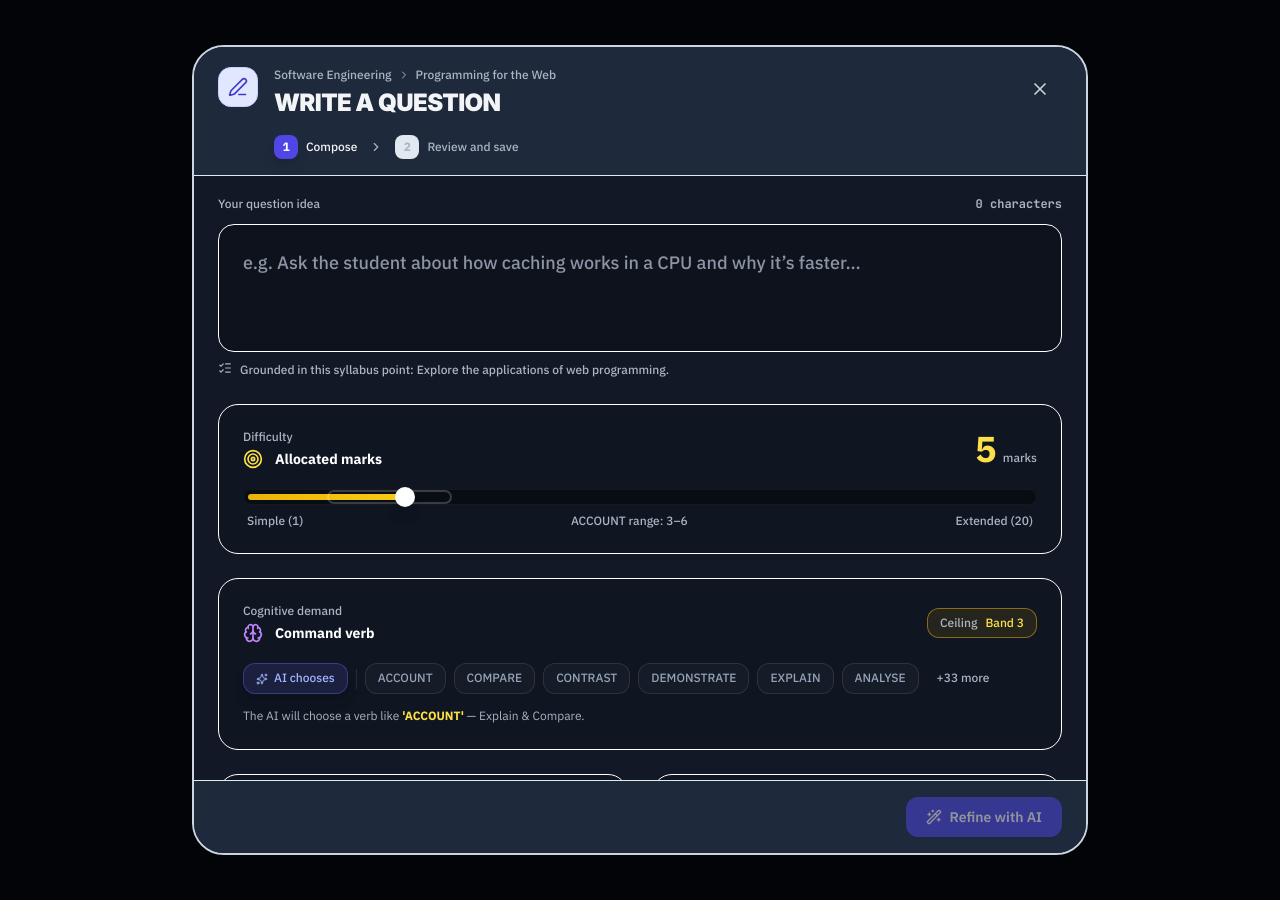
Test case: ManualPromptModal — composing › grounds the request in the syllabus dot point when one is selected
Replace the text in the text box labelled "Your question idea" with "ask about CPU caching" at [640, 288], box [218,224,1062,352]
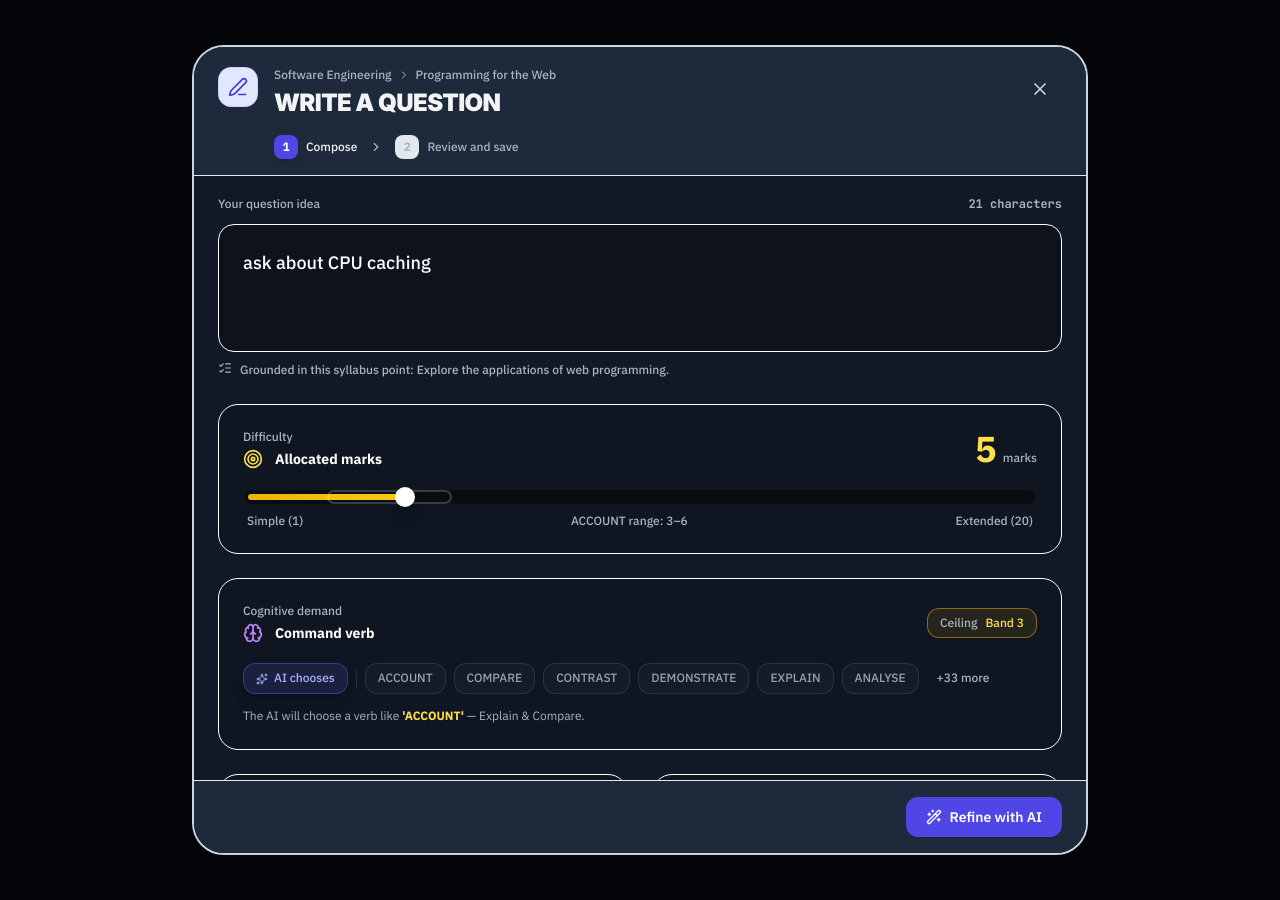
Click the button "Refine with AI" at [984, 817], box [906,797,1062,837]
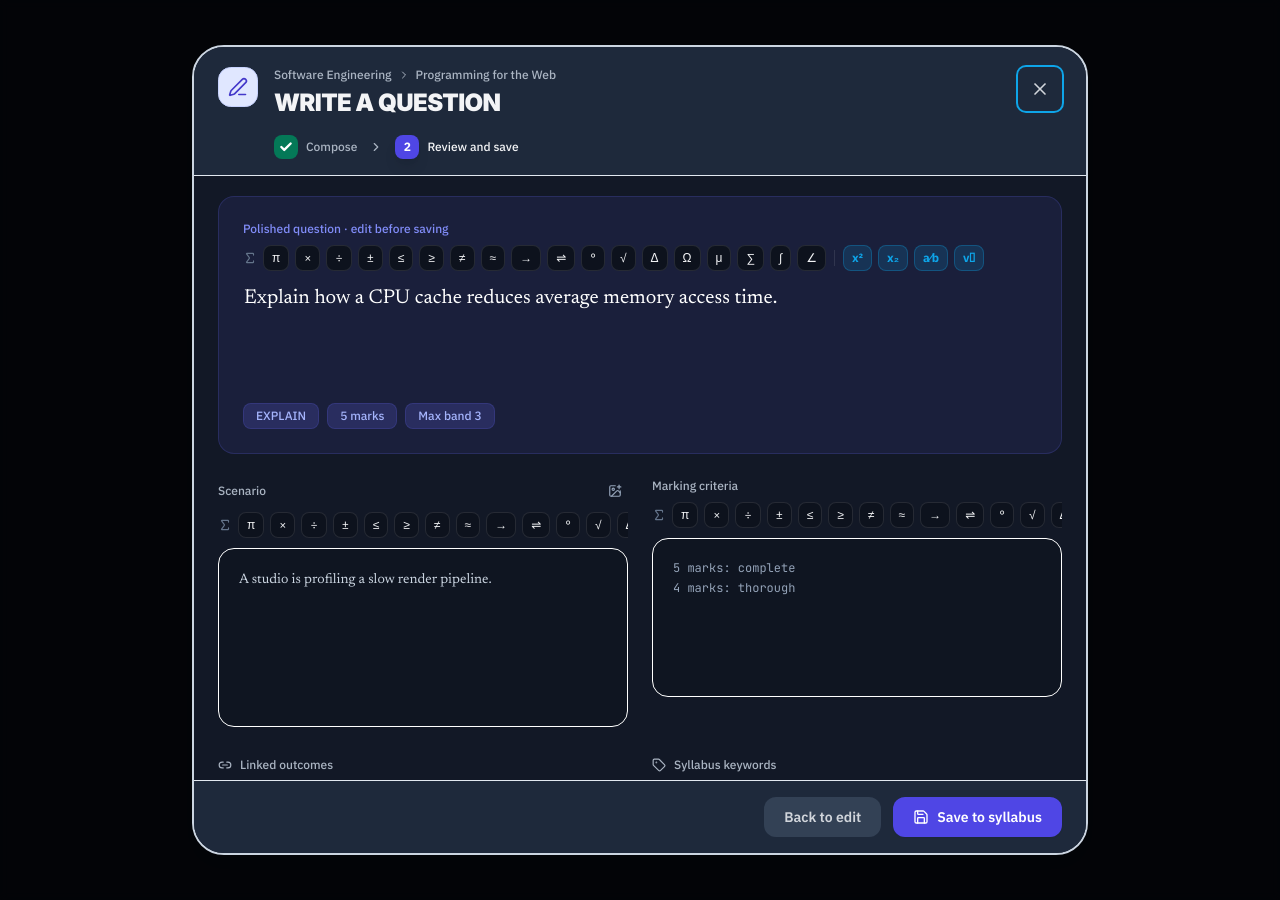
Result: the text box labelled "Polished question · edit before saving" is shown at [235,273,1029,389]
